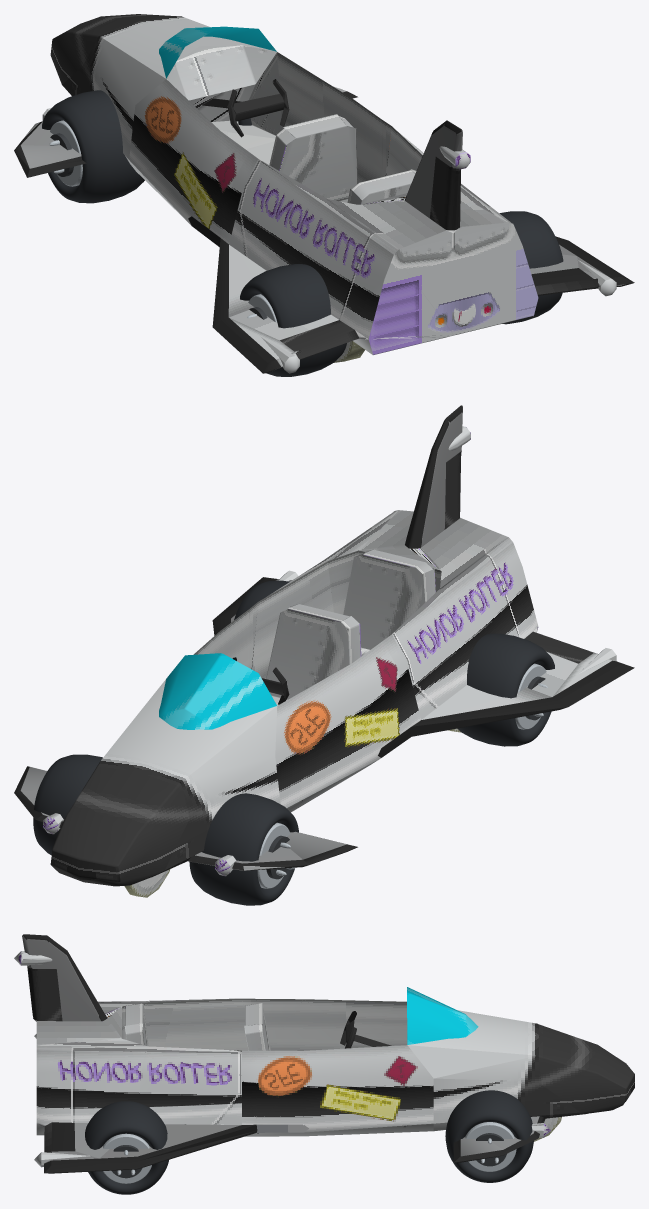
File: car-honor_v.glb
3 renders of one model, top to bottom at view 1: azimuth 30°, elevation 25°; view 2: azimuth 150°, elevation 25°; view 3: azimuth 270°, elevation 25°, orthographic. The views are drawn at different scales.
Visible parts, largest first — view 1: honor_vShape.001, honor_vShape.004, honor_vShape.002, DoorDRotShape.078, Rounded tire.117, honor_vShape.003, Rounded tire.118, TrunkRotShape.017, HoodRotShape.019, Rounded tire.119, honor_vShape, steeringwheelShape.001 (+2 smaller); view 2: honor_vShape.004, honor_vShape.001, DoorDRotShape.078, honor_vShape.002, HoodRotShape.019, Rounded tire.117, honor_vShape, honor_vShape.003, Rounded tire.118, TrunkRotShape.017, DoorPRotShape.084, Rounded tire.116 (+2 smaller); view 3: honor_vShape.003, honor_vShape.004, DoorPRotShape.085, honor_vShape.001, DoorDRotShape.077, HoodRotShape.019, TrunkRotShape.017, Rounded tire.116, Rounded tire.119, DoorPRotShape.086, honor_vShape, Alloy rim.116 (+3 smaller).
Part boxes in pixels (x1,y1,x2,y2): honor_vShape.001: (166,45,538,354); honor_vShape.004: (14,16,634,373); honor_vShape.002: (129,152,393,354); DoorDRotShape.078: (129,79,249,237); Rounded tire.117: (42,90,144,203); honor_vShape.003: (259,140,616,373); Rounded tire.118: (240,264,346,376); TrunkRotShape.017: (405,120,465,230); HoodRotShape.019: (50,14,178,84); Rounded tire.119: (499,211,563,324); honor_vShape: (159,26,276,78); steeringwheelShape.001: (202,79,289,137); honor_vShape.004: (14,517,634,877); honor_vShape.001: (193,511,538,705); DoorDRotShape.078: (275,641,411,808); honor_vShape.002: (43,543,538,876); HoodRotShape.019: (50,762,189,886); Rounded tire.117: (189,793,298,905); honor_vShape: (159,653,276,729); honor_vShape.003: (323,510,537,633); Rounded tire.118: (457,633,554,746); TrunkRotShape.017: (405,405,470,548); DoorPRotShape.084: (252,561,333,678); Rounded tire.116: (33,754,102,855); honor_vShape.003: (34,998,433,1166); honor_vShape.004: (33,1010,587,1173); DoorPRotShape.085: (139,1046,256,1136); honor_vShape.001: (122,998,407,1132); DoorDRotShape.077: (256,999,407,1050); HoodRotShape.019: (537,1024,634,1113); TrunkRotShape.017: (21,934,107,1021); Rounded tire.116: (445,1090,533,1182); Rounded tire.119: (85,1101,168,1194); DoorPRotShape.086: (91,1124,257,1171); honor_vShape: (407,987,478,1044); Alloy rim.116: (465,1122,516,1171).
Bounding box in the file's own units: 2.85 × 1.92 × 5.14.
Materials: 9 (6 with a texture image).
